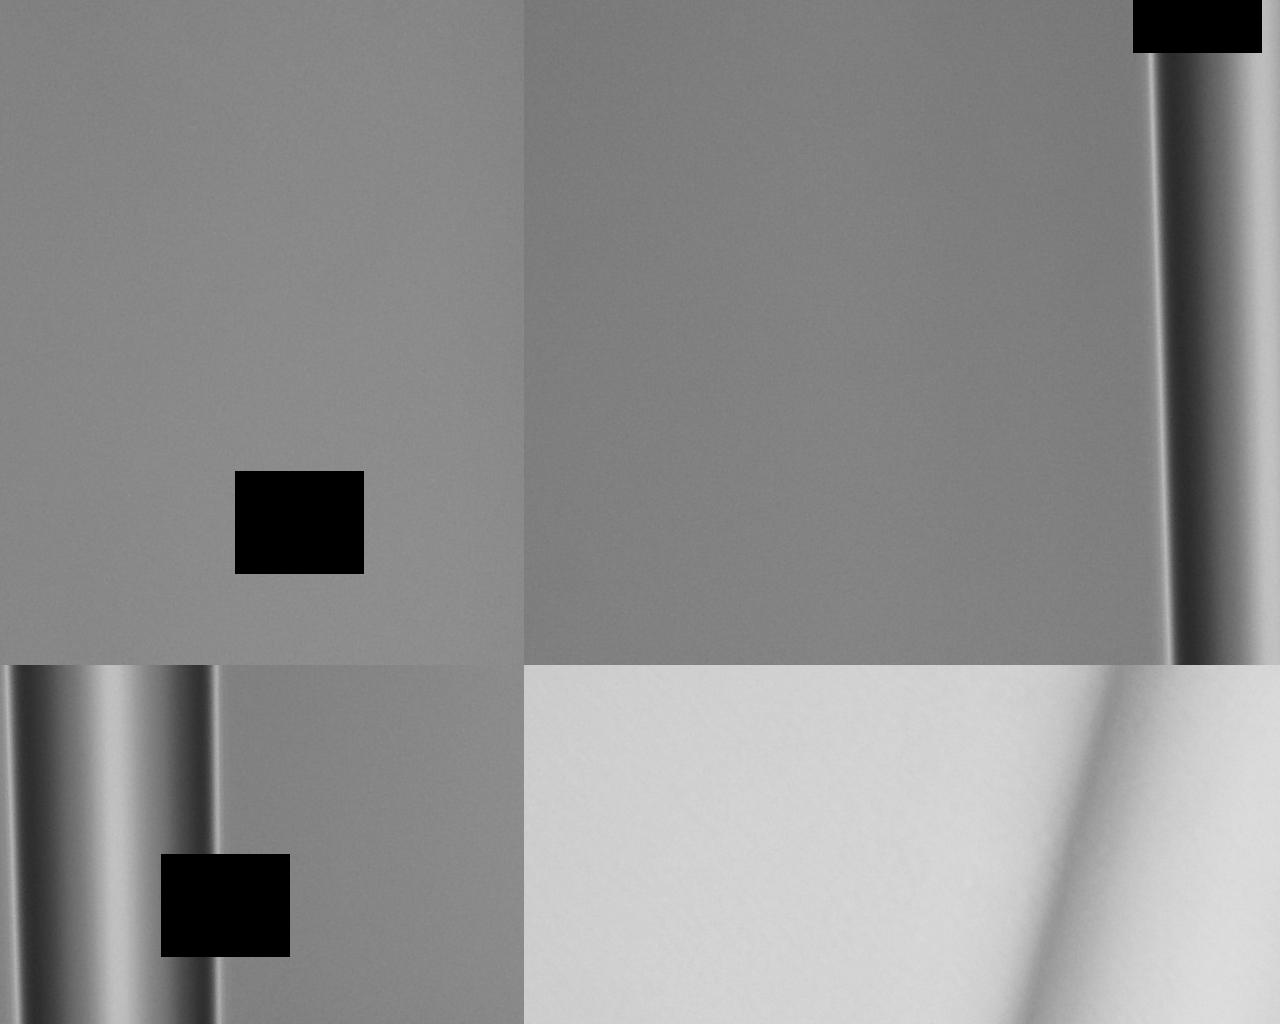fiber: (122, 0, 280, 552), (1124, 0, 1280, 552), (758, 552, 828, 1024)
